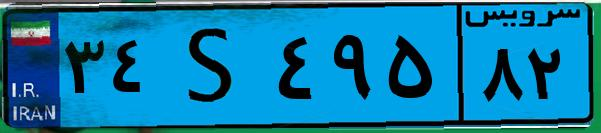2: (525, 38, 570, 115)
3: (57, 26, 110, 100)
4: (270, 28, 330, 110), (110, 28, 158, 98)
5: (385, 28, 445, 110)
8: (475, 38, 525, 113)
9: (330, 28, 385, 110)
S: (158, 12, 270, 120)
